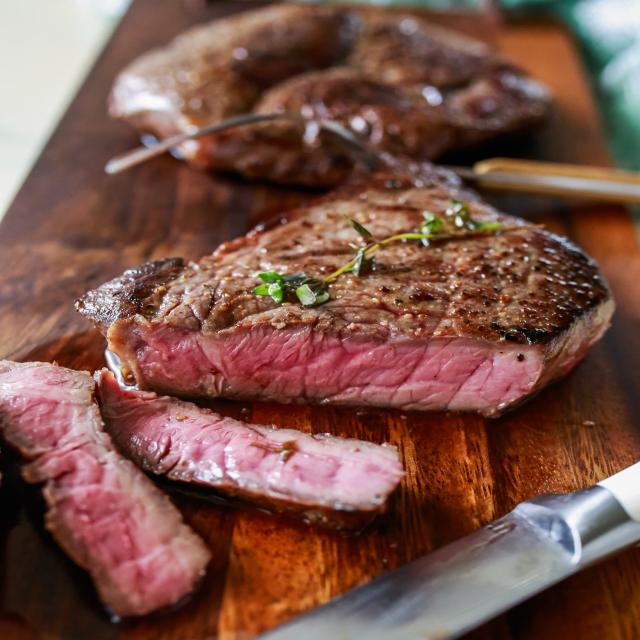Carne: (74, 155, 616, 419), (105, 1, 555, 188), (1, 358, 212, 622), (92, 366, 408, 531)
